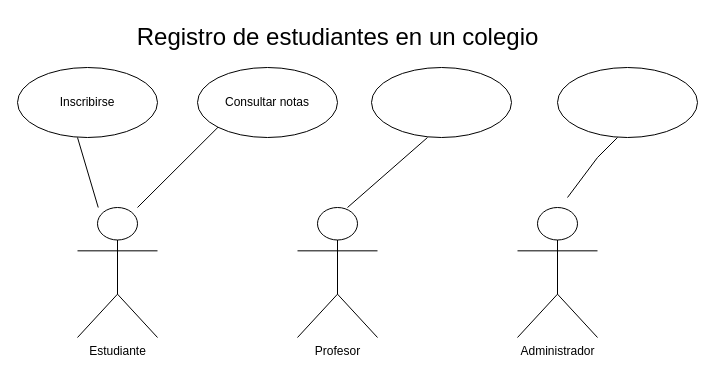
Some shapes in this 715 by 375 pixel diagram are drawn without their labels. The shapes that lost their labels are listed below. From the top down, each one's centre as x and y in pixels, then its label:
At point (441, 102): "Registrar notas".
At point (627, 102): "Generar reportes".
